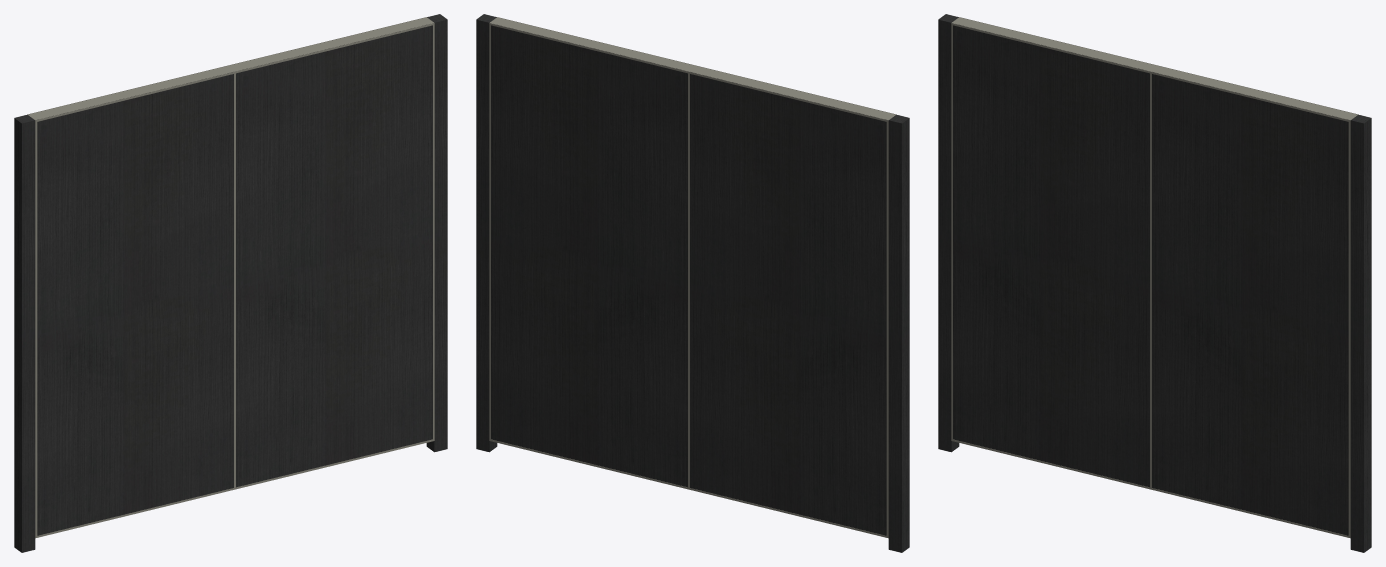
The model's file is ABF5-H1800_charcoalgrey.fbx.
3 renders of one model, left to right at view 1: azimuth 30°, elevation 25°; view 2: azimuth 150°, elevation 25°; view 3: azimuth 330°, elevation 25°, orthographic.
Parts seen in each view (by area): view 1: ABF5-H1800_charcoal gray; view 2: ABF5-H1800_charcoal gray; view 3: ABF5-H1800_charcoal gray.
Boxes of the visible parts, box(x1,y1,x2,y2) form: ABF5-H1800_charcoal gray: box(14, 14, 447, 552); ABF5-H1800_charcoal gray: box(476, 14, 909, 552); ABF5-H1800_charcoal gray: box(938, 14, 1371, 552).
Size of the model in its own units: 192 by 185 by 6.4.
Materials: 4 (3 with a texture image).
